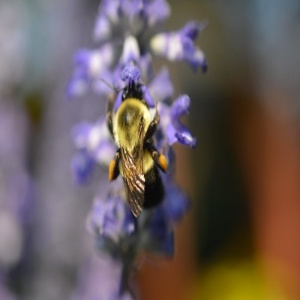bee: (96, 77, 172, 221)
